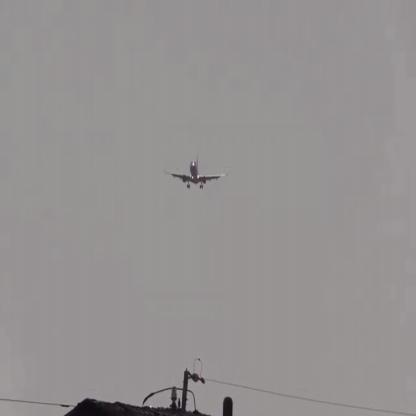CIV_Plane: (163, 156, 226, 190)
